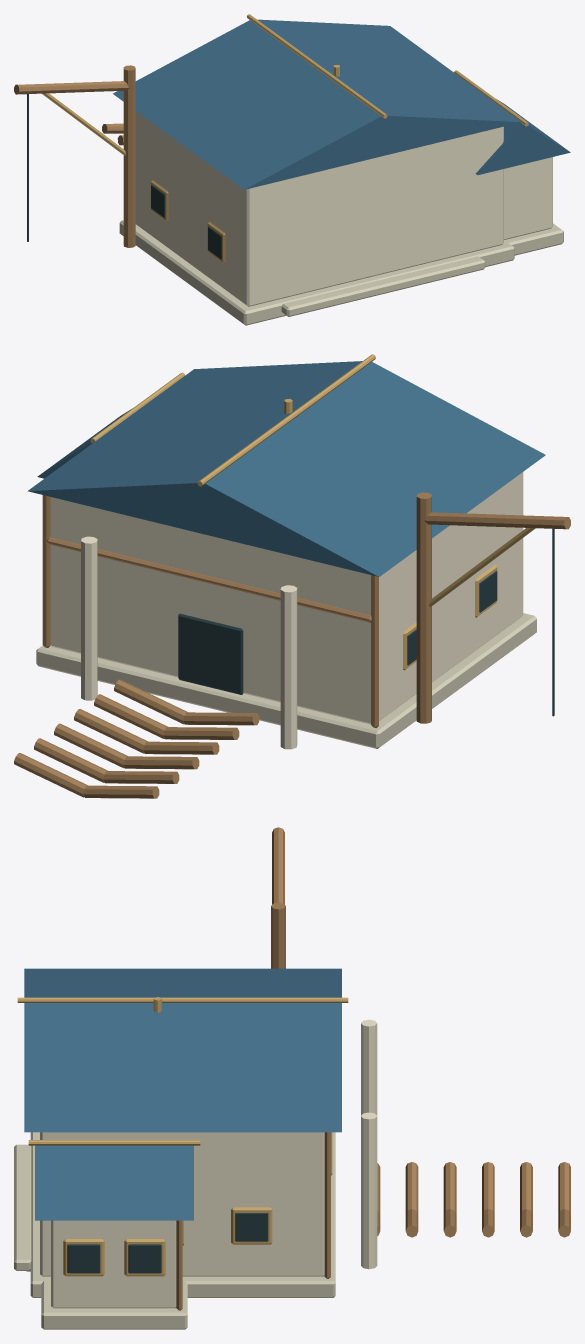
File: level_23.glb
3 renders of one model, top to bottom at view 1: azimuth 30°, elevation 25°; view 2: azimuth 150°, elevation 25°; view 3: azimuth 270°, elevation 25°, orthographic. The views are drawn at different scales.
Parts seen in each view (by area): view 1: shipyard — level 23; view 2: shipyard — level 23; view 3: shipyard — level 23.
Part boxes in pixels (<box>): shipyard — level 23: <box>14,14,570,325</box>; shipyard — level 23: <box>14,354,570,798</box>; shipyard — level 23: <box>14,827,570,1329</box>.
Size of the model in its own units: 9.97 by 4.16 by 8.76.
